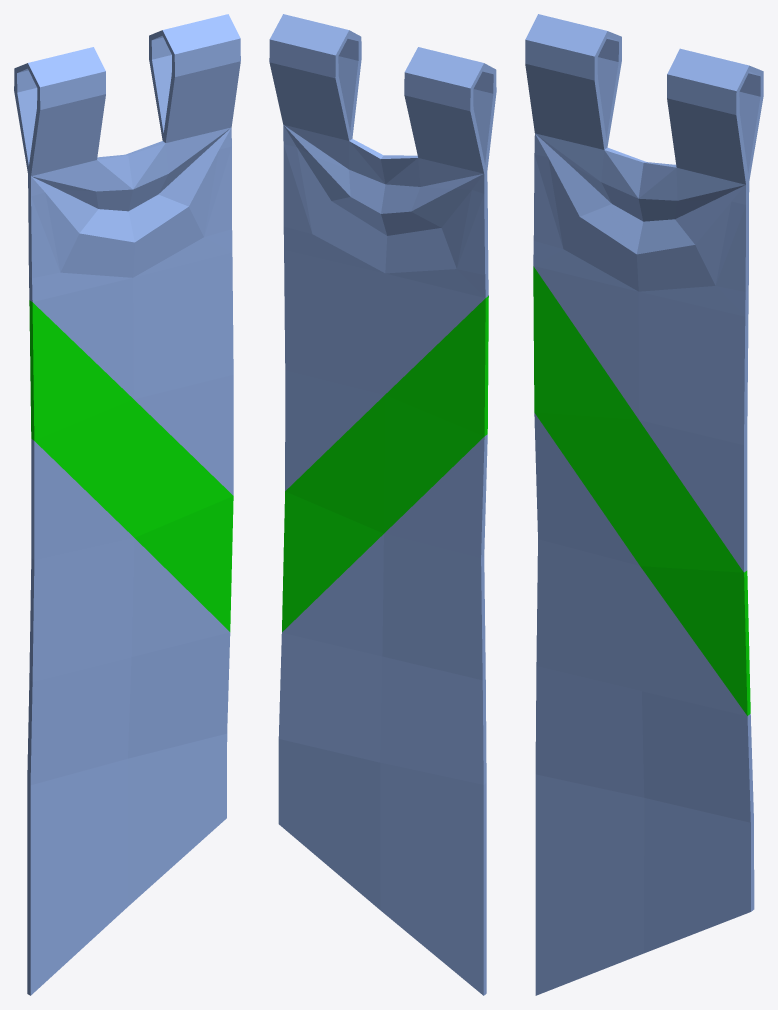
File: SM_Flag_Banner_Thin_B_Fantasy.fbx
3 views of the same model, side by side, from view 1: azimuth 30°, elevation 25°; view 2: azimuth 150°, elevation 25°; view 3: azimuth 330°, elevation 25° (orthographic). The views are drawn at different scales.
Visible parts, largest first — view 1: flag-banner-thin-b-fantasy; view 2: flag-banner-thin-b-fantasy; view 3: flag-banner-thin-b-fantasy.
Part boxes in pixels (x1=…): flag-banner-thin-b-fantasy: x1=14, y1=14, x2=240, y2=995; flag-banner-thin-b-fantasy: x1=269, y1=14, x2=496, y2=995; flag-banner-thin-b-fantasy: x1=525, y1=14, x2=763, y2=995.
Size of the model in its own units: 0.3693 by 1.63 by 0.0831.
